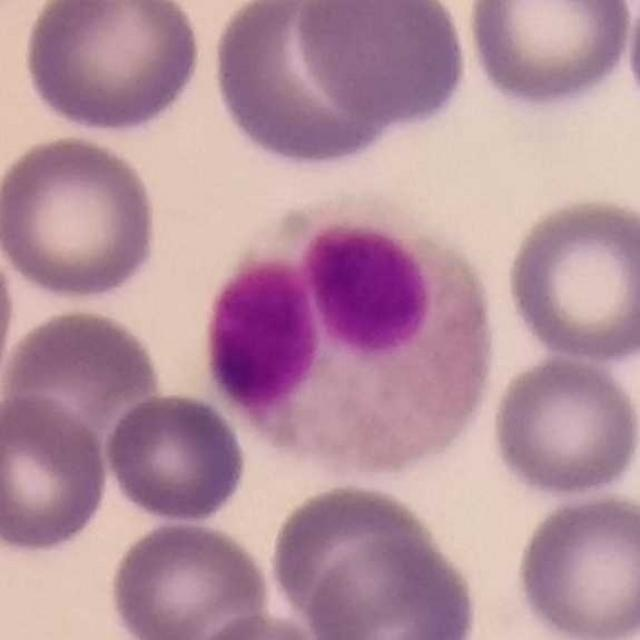eosino: (205, 190, 499, 478)
